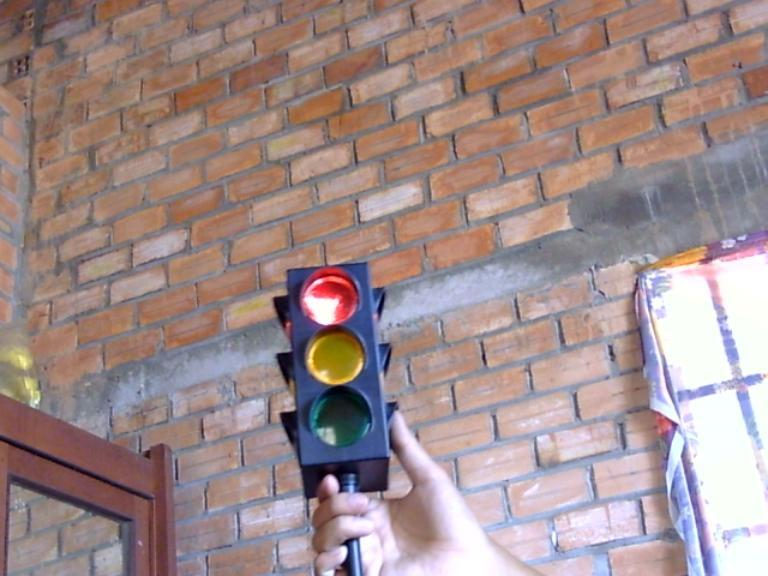red: (286, 261, 379, 329)
